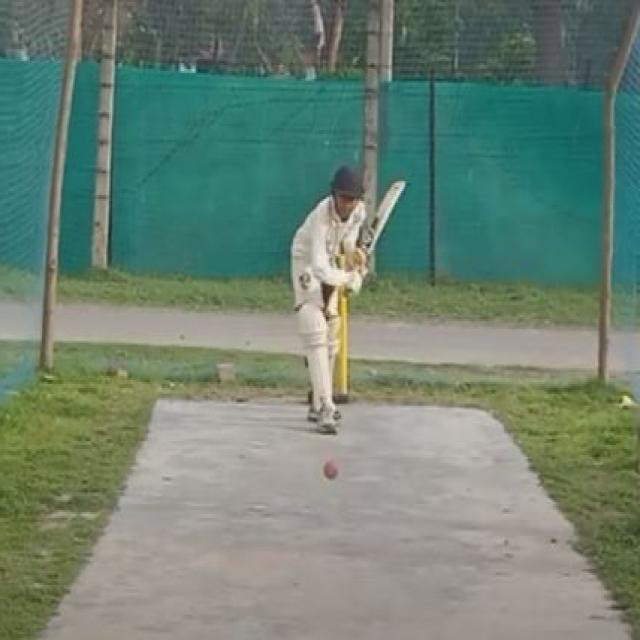ball: (319, 451, 339, 483)
